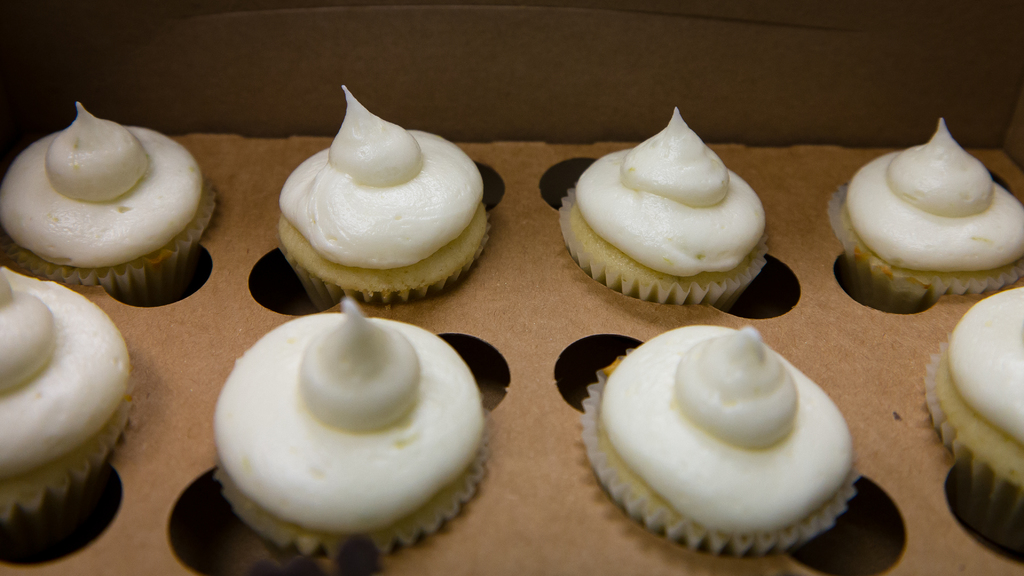cake: (586, 299, 863, 576), (223, 319, 484, 562), (274, 81, 493, 298), (561, 108, 776, 308), (0, 101, 215, 272), (833, 120, 1023, 293), (0, 264, 131, 509), (915, 285, 1023, 531)
